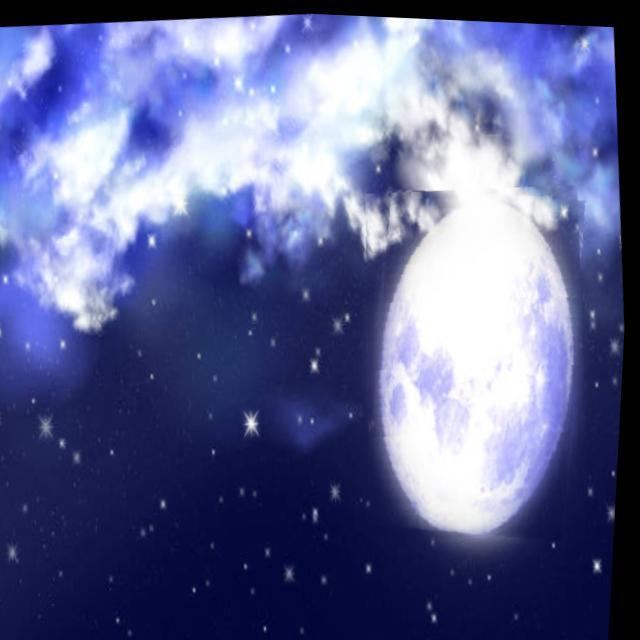moon: (348, 170, 608, 546)
